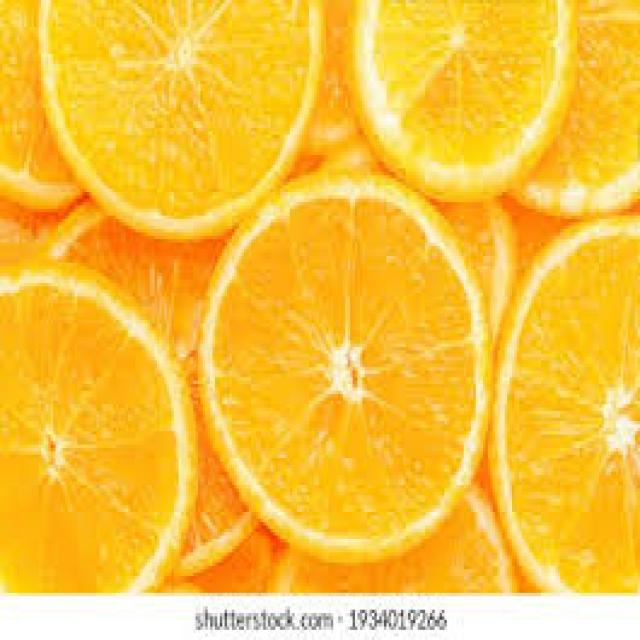orange: (208, 173, 492, 585)
